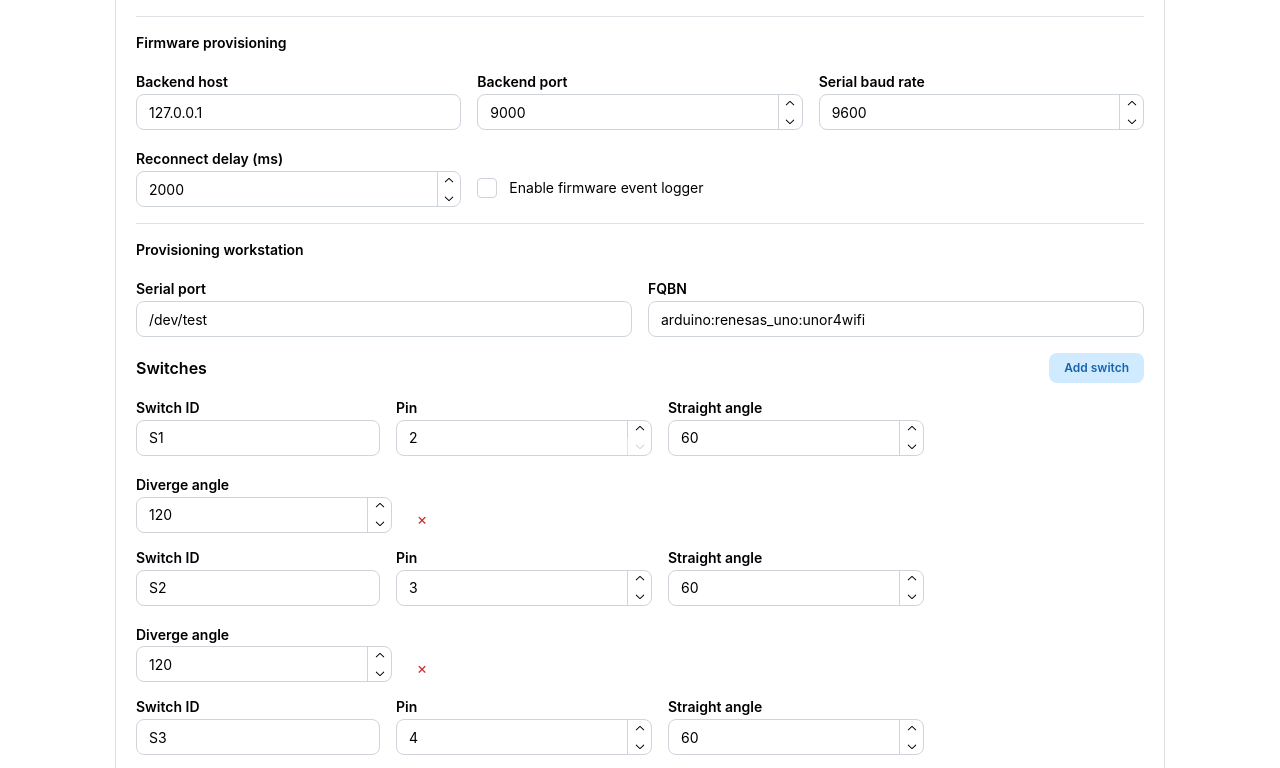
Test: uses D10 when it is the final available component pin
This screenshot has width=1280, height=768.
(page scrolled)
Click the button "Add switch": coordinates (1097, 368) [1049,353,1144,383]
(page scrolled)
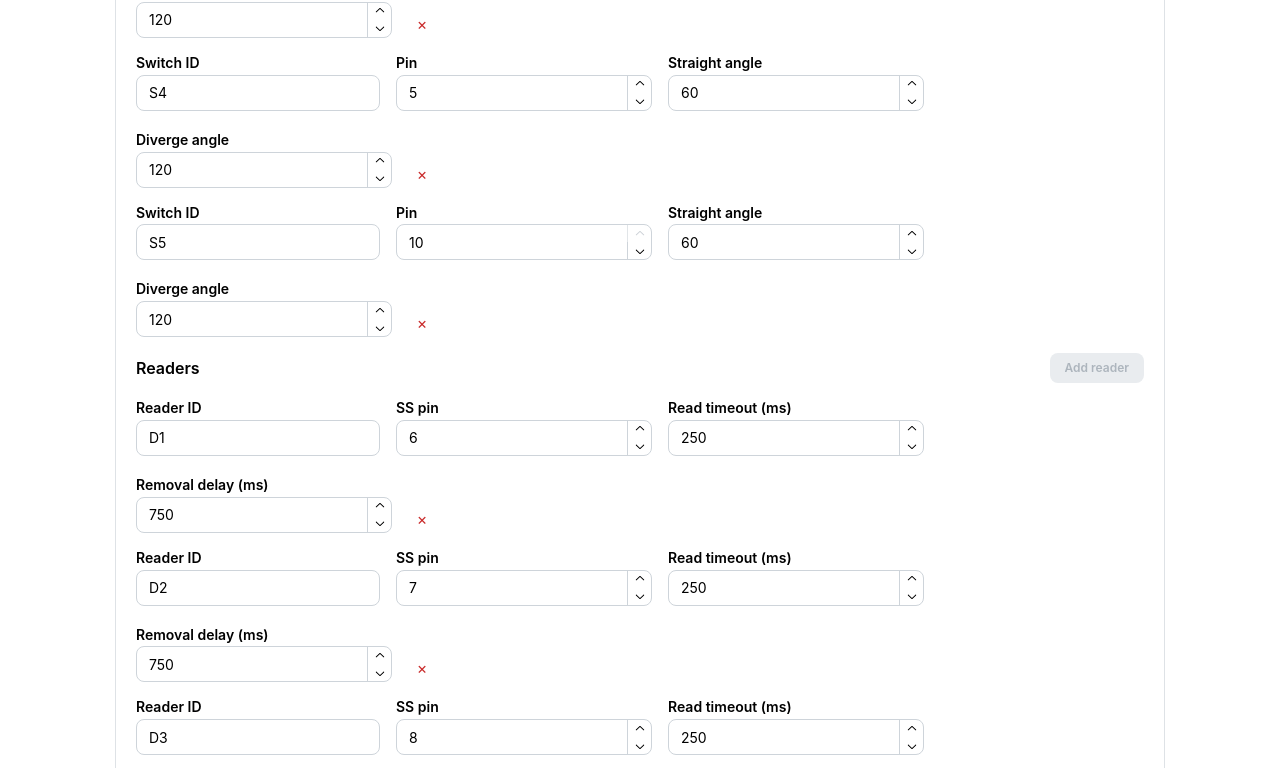
Now the 2nd field labelled "Pin" holds "10", box [396,224,652,260]
Now the button "Add reader" is disabled, box [1050,353,1144,383]
